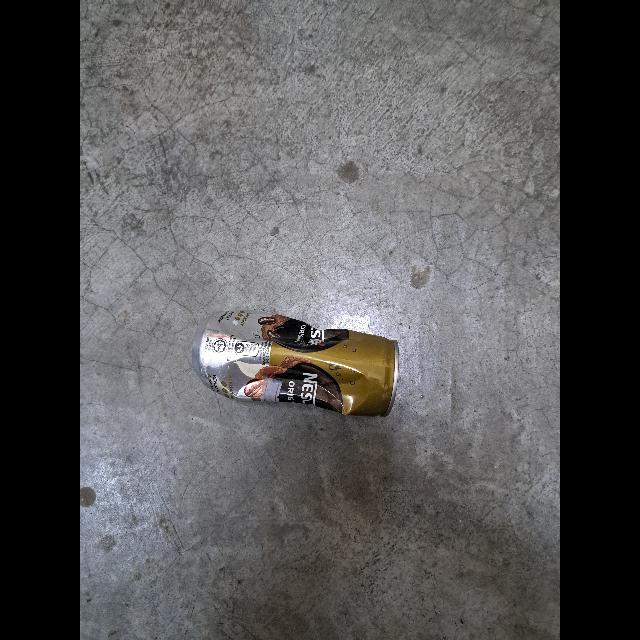lata: (198, 309, 400, 416)
